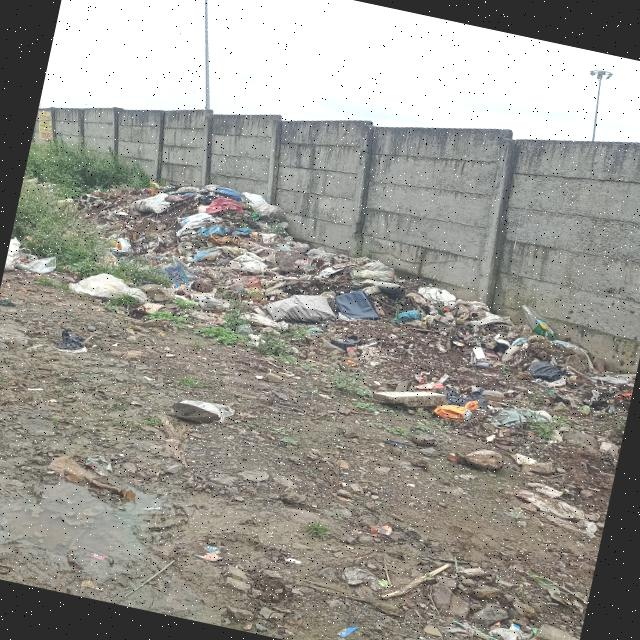garbage: (264, 235, 631, 502), (64, 160, 296, 346)
